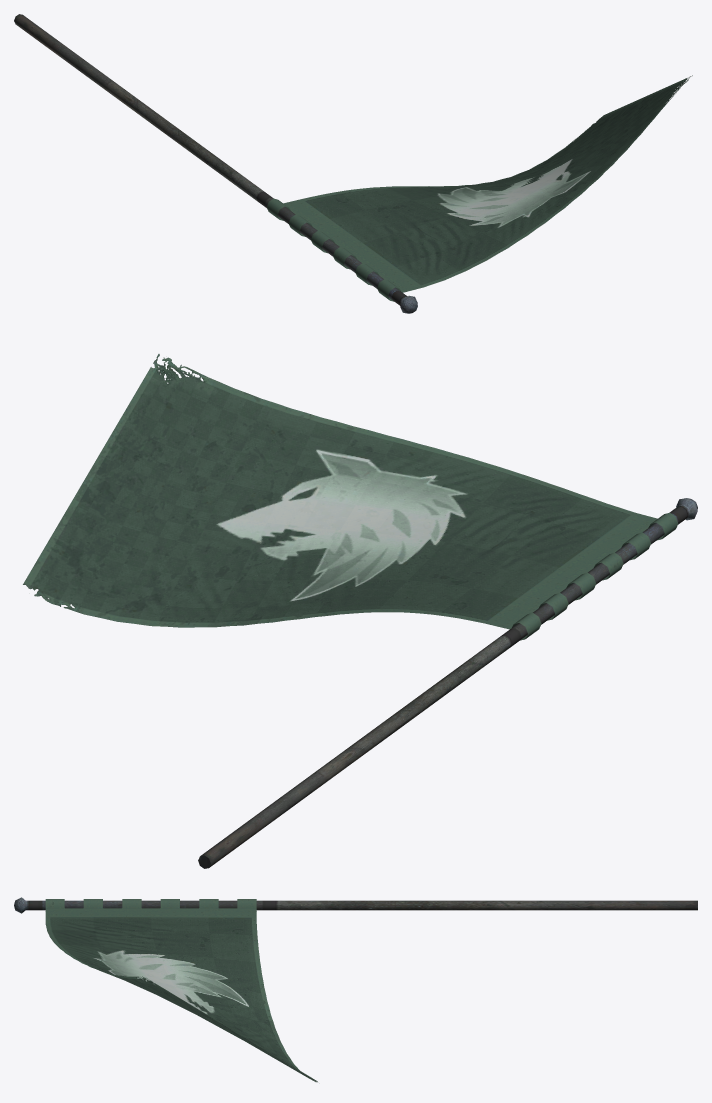
The model's file is mp_flag_allies_3_LOD0.obj.
3 renders of one model, top to bottom at view 1: azimuth 30°, elevation 25°; view 2: azimuth 150°, elevation 25°; view 3: azimuth 270°, elevation 25°, orthographic. The views are drawn at different scales.
Parts seen in each view (by area): view 1: mtl_flag_allies_3, mtl_mp_flag_base; view 2: mtl_flag_allies_3, mtl_mp_flag_base; view 3: mtl_flag_allies_3, mtl_mp_flag_base.
Boxes of the visible parts, left/top/right/bottom form: mtl_flag_allies_3: left=266, top=75, right=692, bottom=301; mtl_mp_flag_base: left=14, top=14, right=417, bottom=313; mtl_flag_allies_3: left=23, top=354, right=678, bottom=640; mtl_mp_flag_base: left=198, top=498, right=697, bottom=868; mtl_flag_allies_3: left=45, top=899, right=317, bottom=1082; mtl_mp_flag_base: left=14, top=897, right=697, bottom=913.
Bounding box in the file's own units: 116 × 44.12 × 212.
